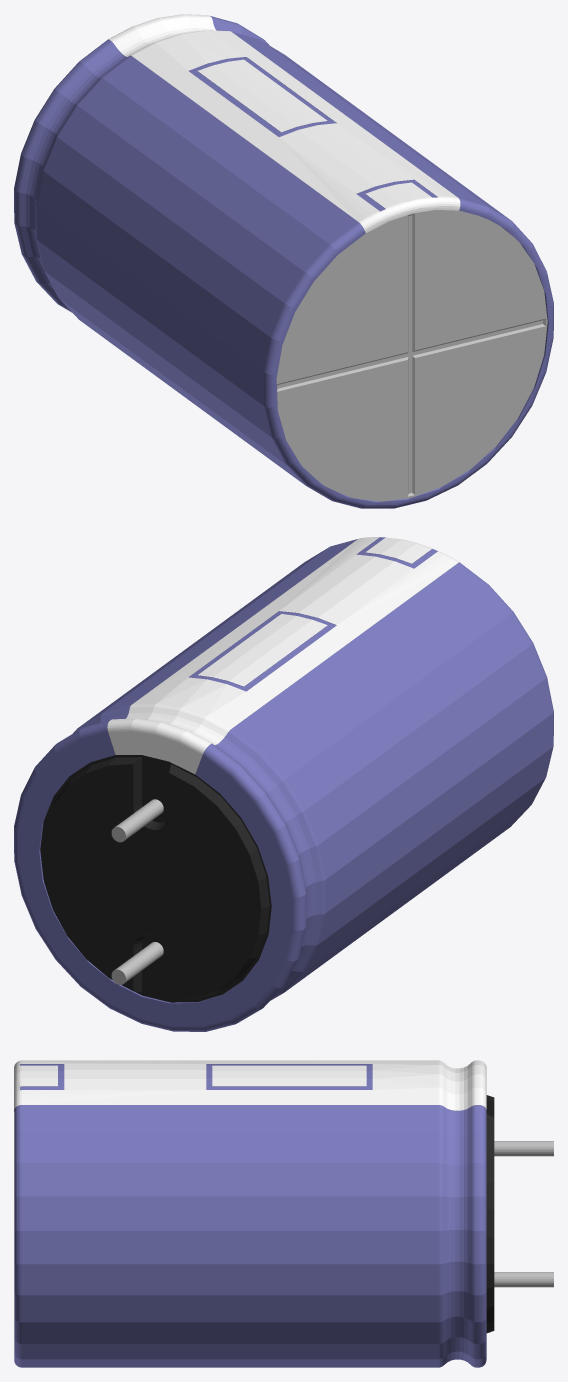
Rendered from cap_el_d16_h25_pitch7.5_w0.8.obj.
3 views of the same model, one above another, from view 1: azimuth 30°, elevation 25°; view 2: azimuth 150°, elevation 25°; view 3: azimuth 270°, elevation 25° (orthographic). The views are drawn at different scales.
Parts seen in each view (by area): view 1: cap_el_d16_h25_pitch7.5_w0.8; view 2: cap_el_d16_h25_pitch7.5_w0.8; view 3: cap_el_d16_h25_pitch7.5_w0.8.
Boxes of the visible parts, bbox=[...] form: cap_el_d16_h25_pitch7.5_w0.8: bbox=[14, 14, 553, 508]; cap_el_d16_h25_pitch7.5_w0.8: bbox=[14, 537, 553, 1031]; cap_el_d16_h25_pitch7.5_w0.8: bbox=[14, 1060, 553, 1367].
Bounding box in the file's own units: 0.0112 × 0.0113 × 0.0198.
